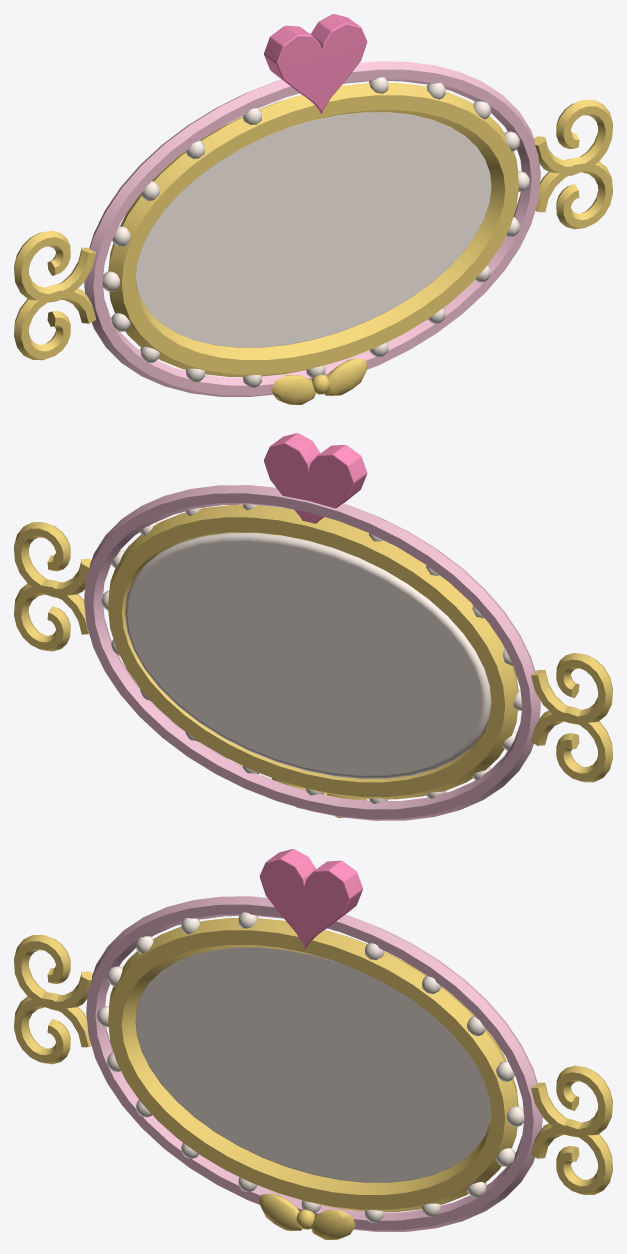
The model's file is sign_frame.glb.
The picture shows the model from 3 angles, top to bottom: view 1: azimuth 30°, elevation 25°; view 2: azimuth 150°, elevation 25°; view 3: azimuth 330°, elevation 25°; orthographic projection.
Visible parts, largest first — view 1: sign_frame; view 2: sign_frame; view 3: sign_frame.
Boxes of the visible parts, bbox=[...] form: sign_frame: bbox=[14, 14, 612, 404]; sign_frame: bbox=[14, 433, 612, 820]; sign_frame: bbox=[14, 849, 612, 1239].
Bounding box in the file's own units: 3.28 × 1.95 × 0.1937.
